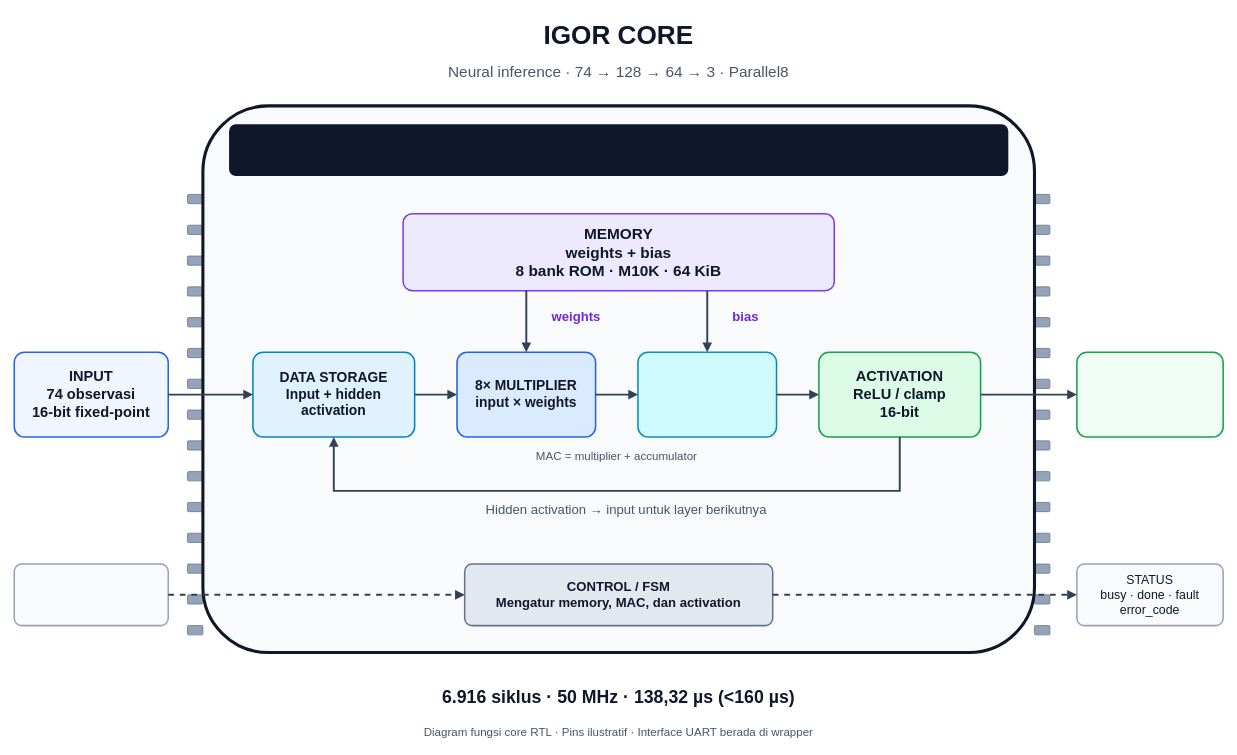
The diagram is 1237 pixels wide and 755 high, and some of its shapes have lost their labels. The shapes that lost their labels are listed below. From the top down, each one's centre as x and y in pixels, then its label:
the point at 618,150: IGOR | FPGA NEURAL CORE
the point at 707,394: 8× ACCUMULATOR bias + Σ products 40-bit signed
the point at 1150,394: OUTPUT 3 residual AI 16-bit fixed-point
the point at 91,594: CONTROL INPUT clock · reset start · abort
